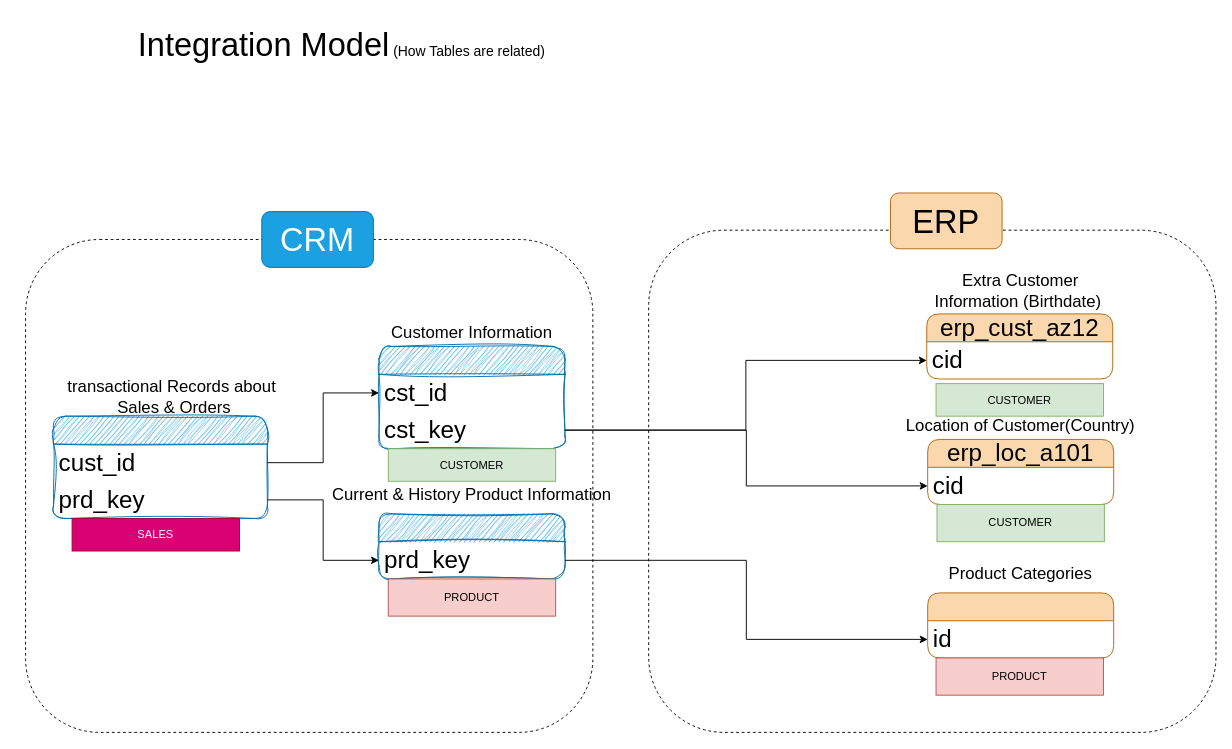
The diagram is 1232 pixels wide and 749 high, and some of its shapes have lost their labels. Here are the shapes that lost their labels. From the top down, the box of each, then its label:
(378, 345, 565, 449): crm_cust_info
(53, 415, 267, 518): crm_sales_details
(378, 513, 565, 579): crm_prd_info
(927, 592, 1114, 658): px_cat_g1v2
